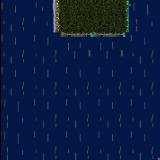Slow: (0, 37, 160, 160), (0, 0, 53, 36), (129, 0, 160, 36)
